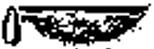Basket: (0, 4, 153, 48)
